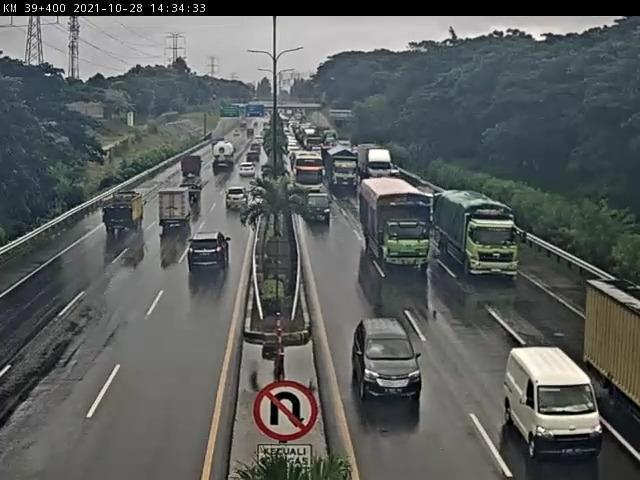bus: (294, 152, 329, 198)
car: (505, 347, 606, 464), (351, 319, 424, 404), (188, 236, 234, 279), (302, 193, 334, 225), (223, 192, 248, 219), (178, 181, 201, 210), (240, 164, 259, 182)
truck: (357, 177, 441, 271), (438, 195, 525, 280), (586, 285, 640, 418), (104, 189, 151, 237), (326, 143, 361, 195), (361, 142, 398, 184), (158, 190, 193, 232), (180, 153, 207, 179)
